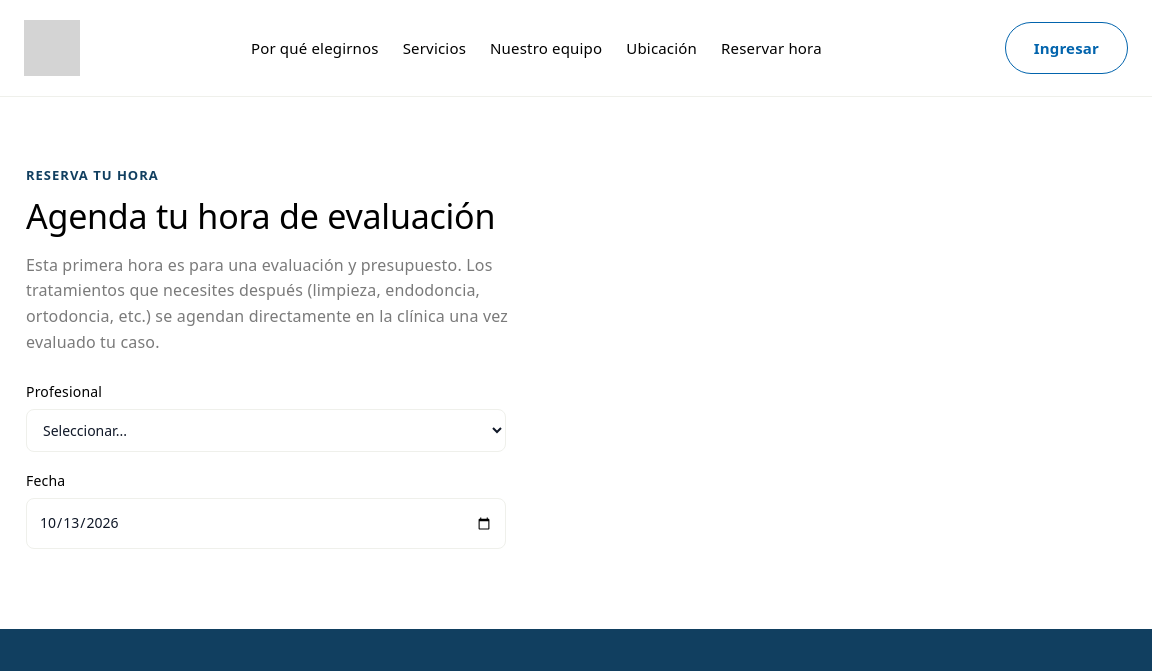
ReservarPage › muestra un mensaje si no hay horas disponibles
Select "Dra. Soto — General" in the dropdown labelled "Profesional" at (266, 431), box [26,409,506,452]
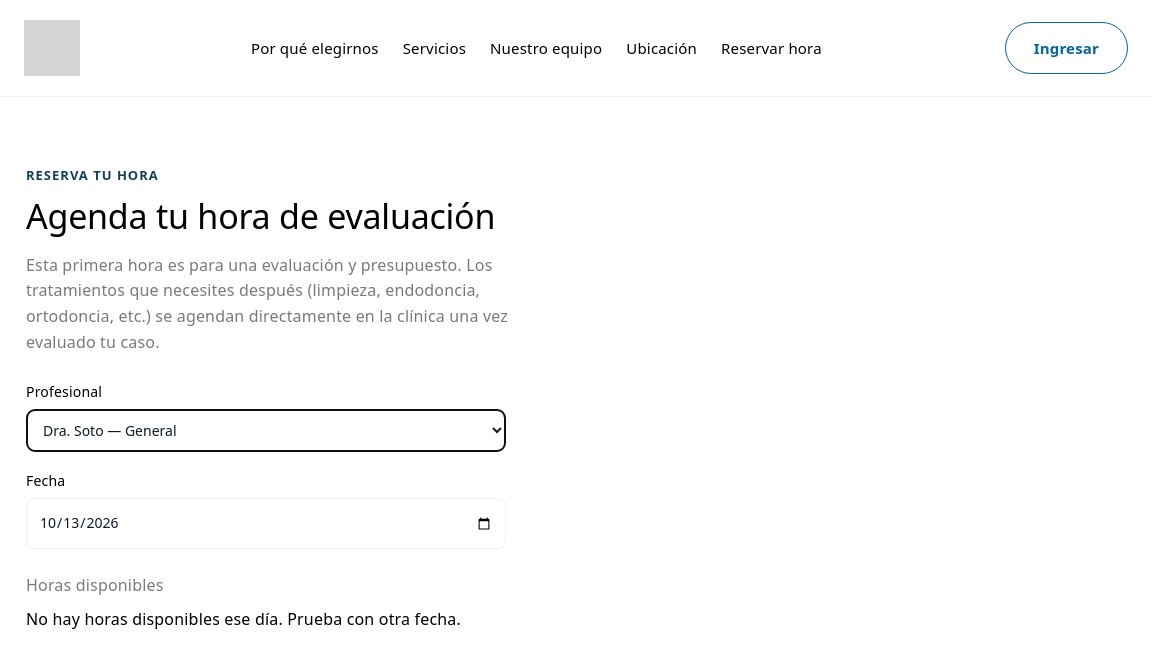
Check: the text "No hay horas disponibles ese día. Prueba con otra fecha." is shown, box [26,606,506,632]
